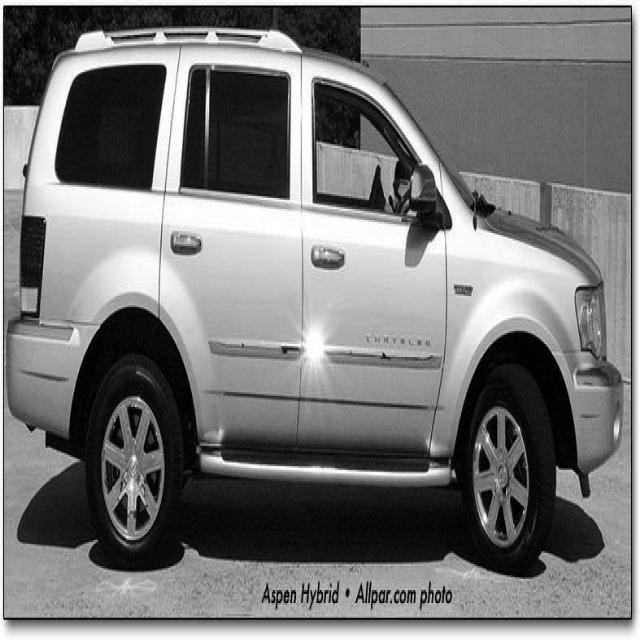car: (6, 24, 624, 575)
